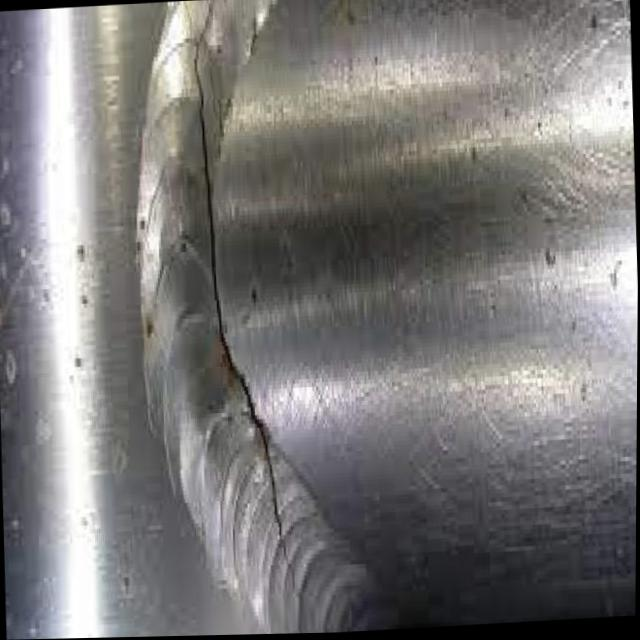Crack: (186, 0, 300, 591)
